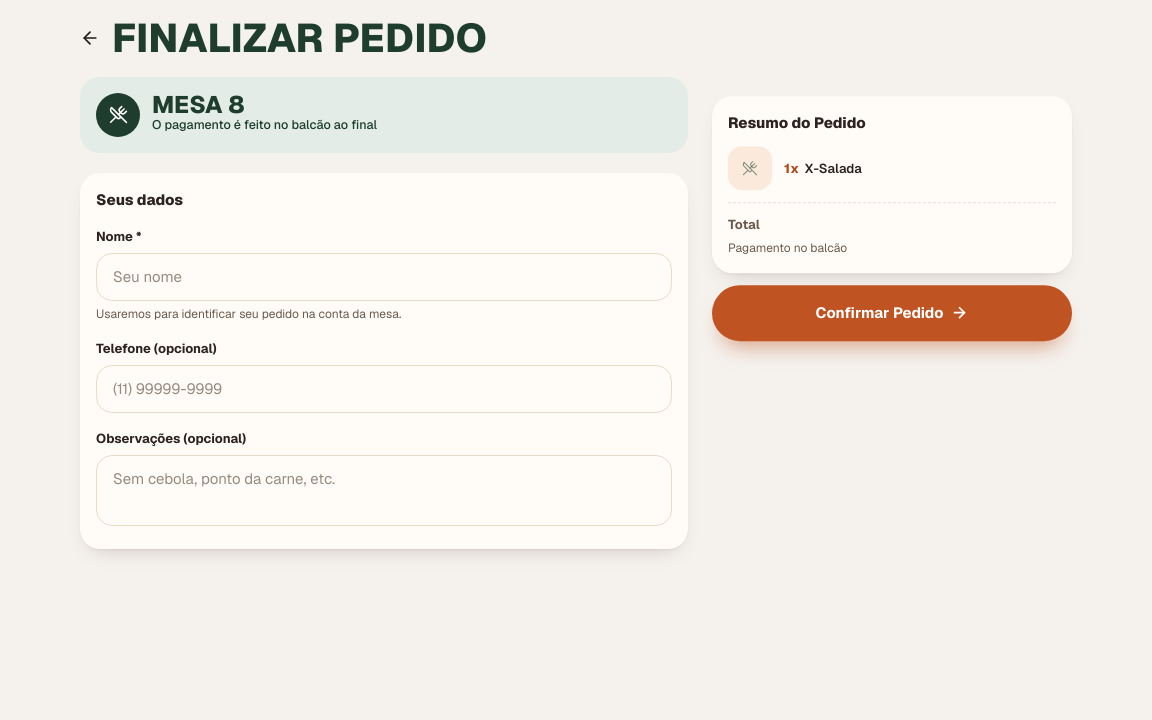
Scenario: quando o servidor recusa o pedido › issue do zod vira erro no campo, e nada de JSON na tela
This screenshot has width=1152, height=720.
Type "Ana" into the field with placeholder "Seu nome".
click(384, 277); type("Ana")  # box x1=96 y1=253 x2=672 y2=301
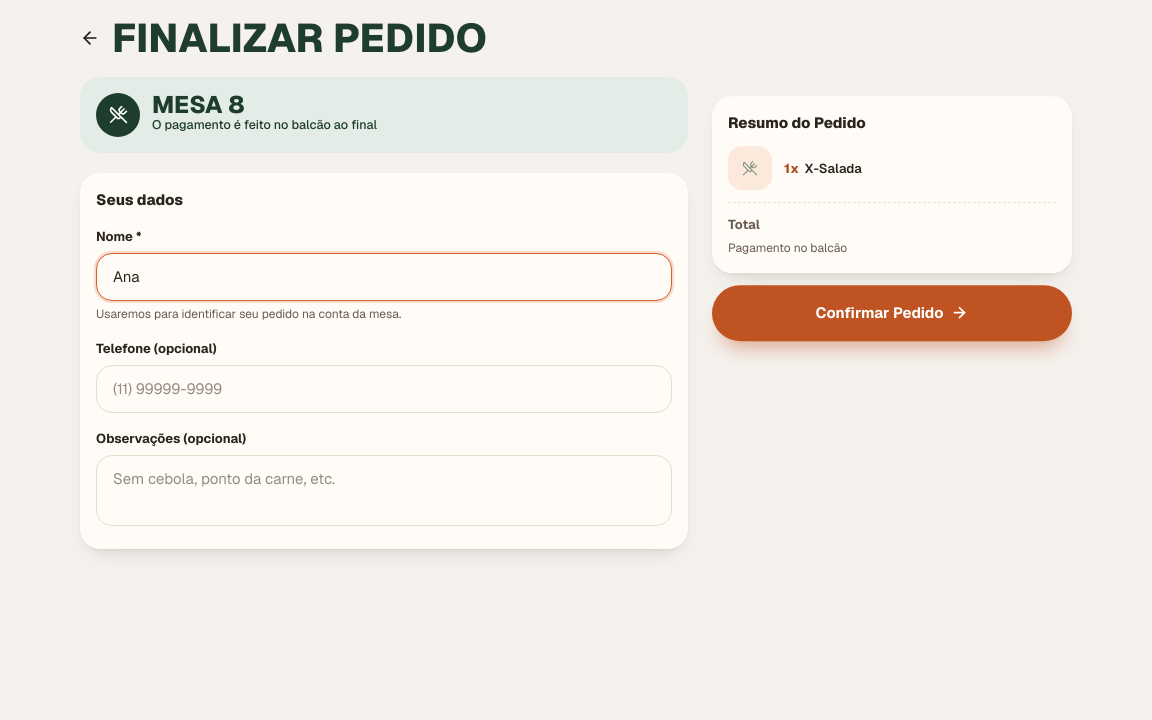
Click the button "Confirmar Pedido".
click(892, 313)  # box x1=712 y1=285 x2=1072 y2=341
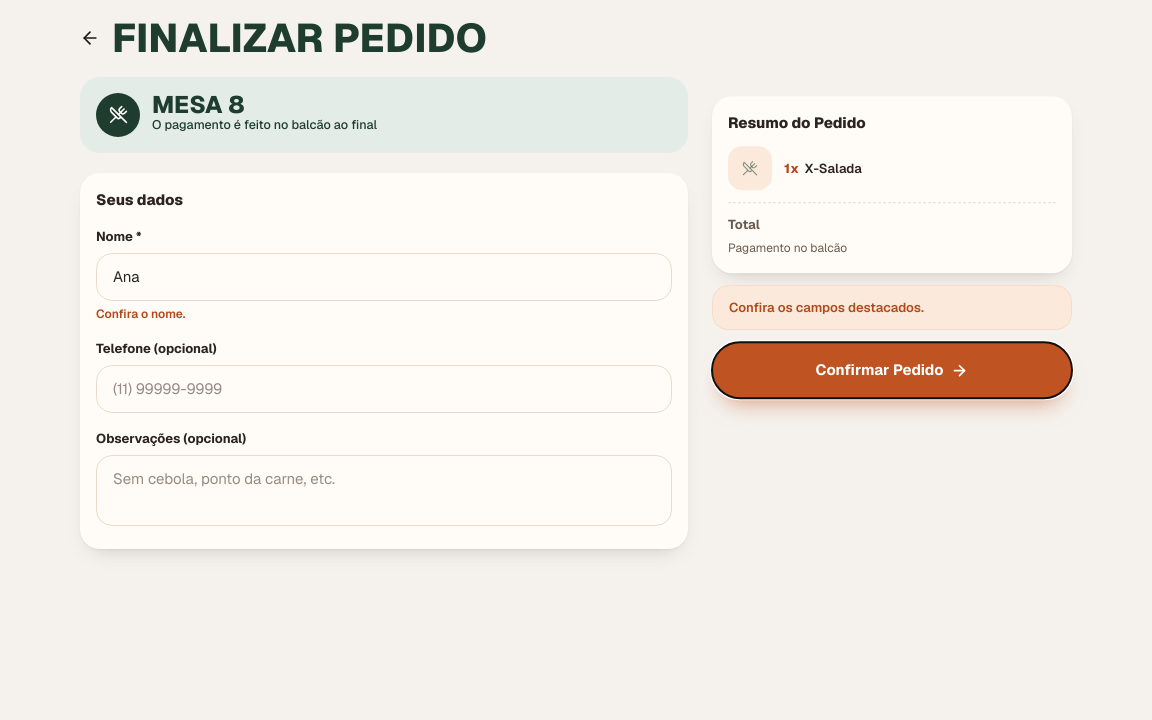
Now the text "Confira o nome." is shown, box x1=96 y1=306 x2=186 y2=322
